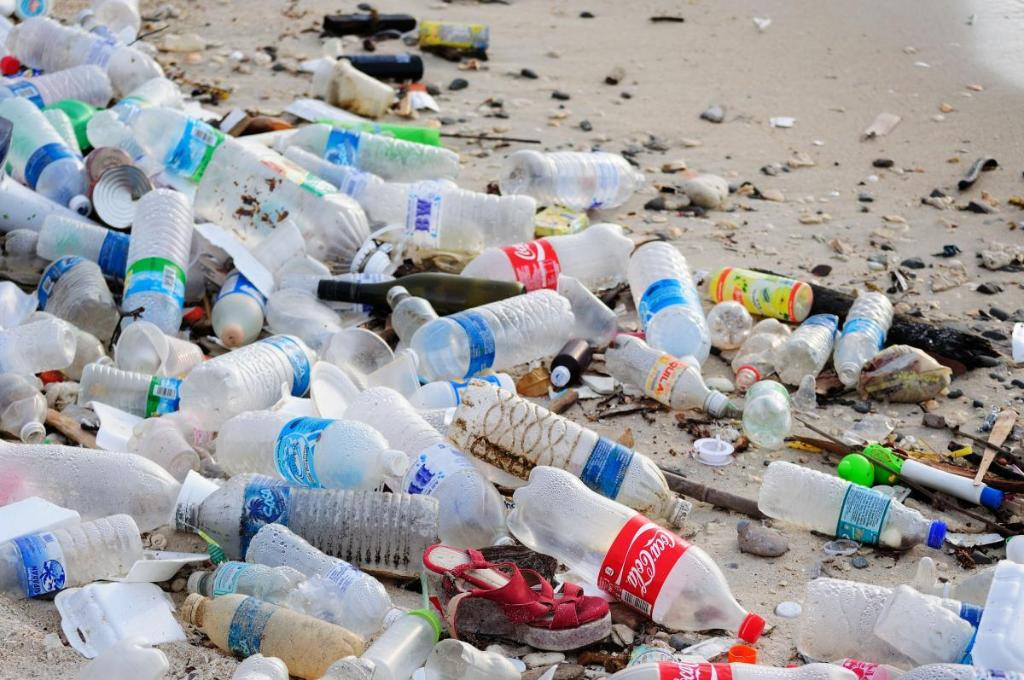garbage: (508, 466, 765, 643), (447, 378, 692, 528), (342, 386, 515, 550), (195, 138, 392, 275), (176, 485, 439, 578), (798, 577, 985, 671), (0, 439, 182, 533), (395, 288, 575, 381), (245, 523, 404, 628), (758, 462, 946, 550), (182, 593, 364, 680), (218, 410, 410, 492), (178, 335, 316, 432), (16, 17, 166, 100), (1, 514, 143, 601), (359, 185, 536, 254), (460, 223, 635, 292), (0, 96, 93, 218), (272, 123, 460, 183), (120, 188, 195, 337), (628, 241, 711, 375), (605, 335, 728, 419), (317, 272, 527, 317), (118, 103, 234, 182), (498, 150, 645, 209), (874, 584, 977, 666), (37, 255, 121, 343), (86, 77, 179, 148), (37, 215, 131, 284), (28, 311, 114, 380), (833, 291, 894, 387), (78, 363, 183, 418), (188, 561, 307, 609), (283, 146, 384, 201), (1, 65, 112, 110), (605, 660, 858, 679), (775, 314, 841, 385), (211, 268, 267, 348), (0, 318, 78, 375), (732, 318, 792, 387), (128, 410, 218, 454), (0, 373, 48, 444), (742, 379, 792, 443), (387, 286, 439, 347), (707, 300, 753, 348), (408, 377, 470, 410), (470, 372, 517, 395)
